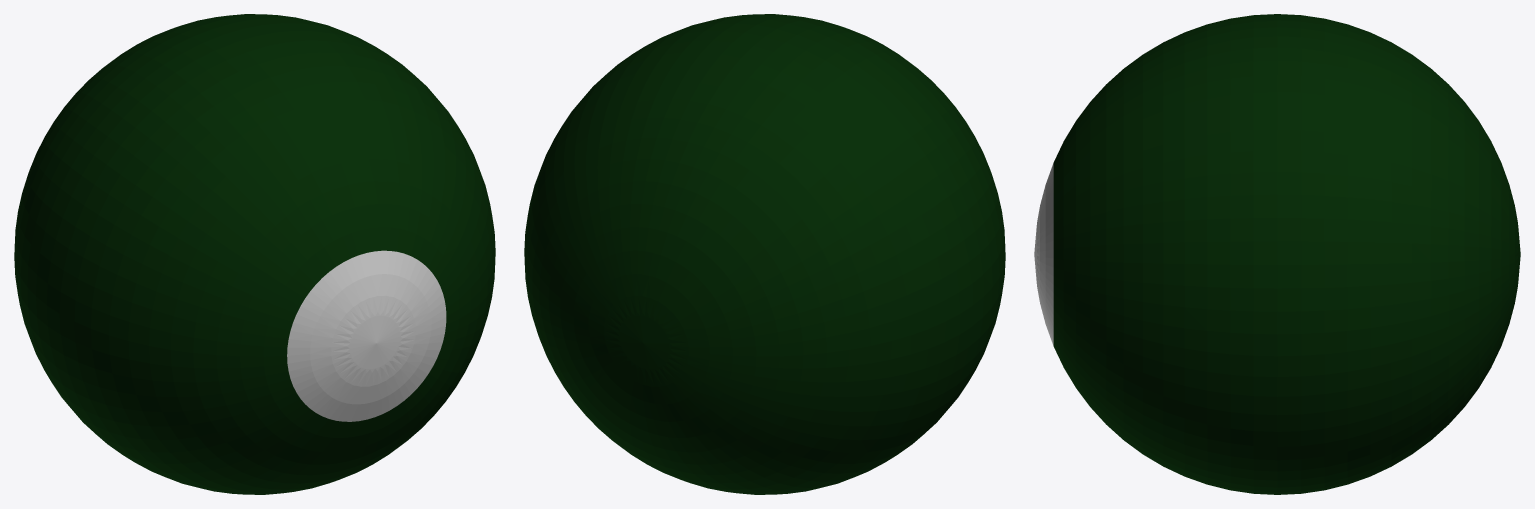
Rendered from 9_ball.obj.
3 views of the same model, side by side, from view 1: azimuth 30°, elevation 25°; view 2: azimuth 150°, elevation 25°; view 3: azimuth 270°, elevation 25° (orthographic).
Parts seen in each view (by area): view 1: Solid.009; view 2: Solid.009; view 3: Solid.009.
Boxes of the visible parts, x1,y1,x2,y2 form: Solid.009: (14,14,495,494); Solid.009: (524,14,1005,494); Solid.009: (1034,14,1520,494).
Size of the model in its own units: 0.0786 by 0.0786 by 0.0794.
